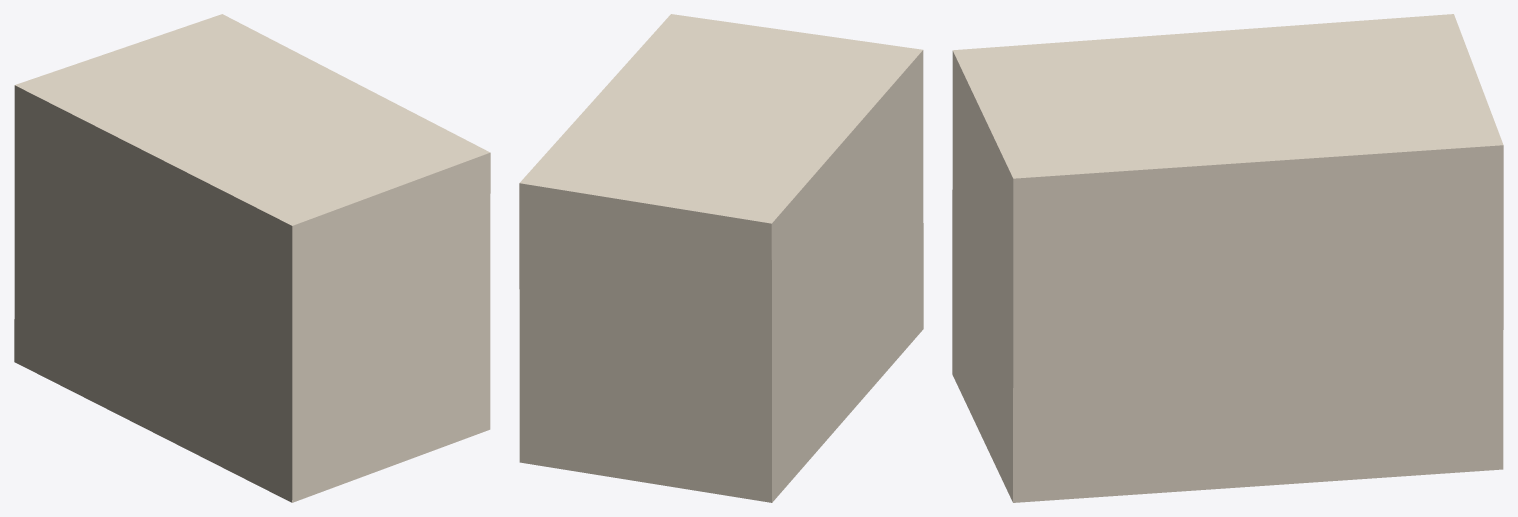
3 views of the same model, side by side, from view 1: azimuth 30°, elevation 25°; view 2: azimuth 150°, elevation 25°; view 3: azimuth 270°, elevation 25° (orthographic). The views are drawn at different scales.
Bounding box in the file's own units: 2.44 × 2.24 × 3.44.
